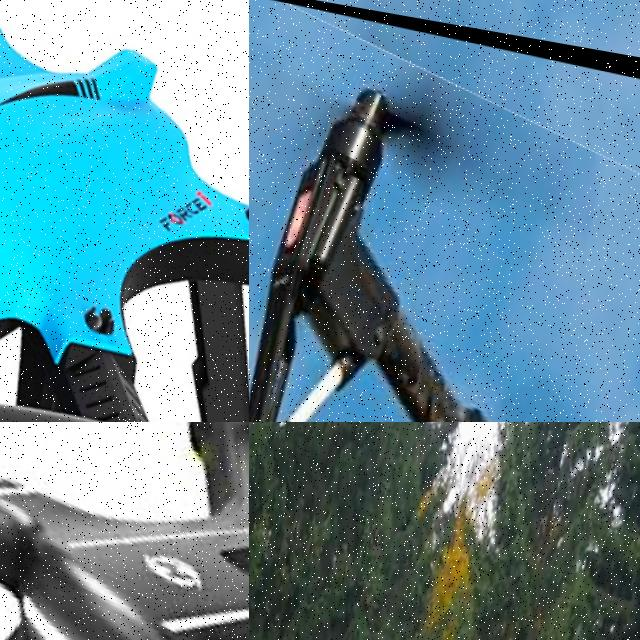drone: (249, 0, 640, 422), (0, 0, 249, 422), (0, 422, 249, 640)
